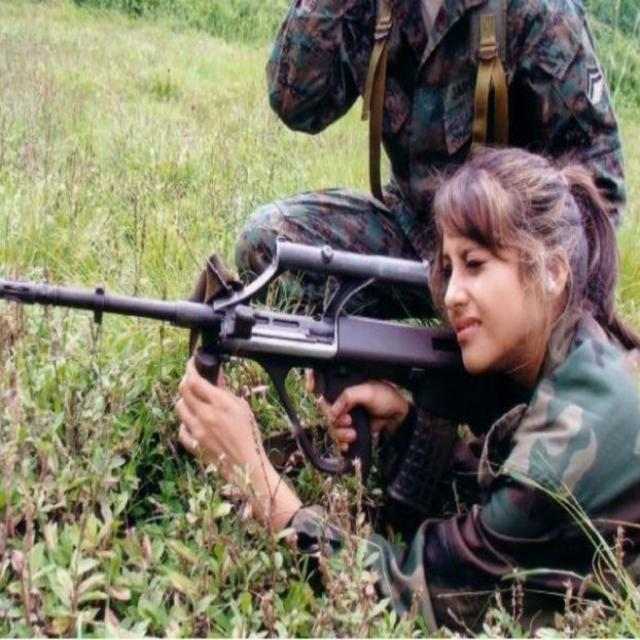heavy-weapon: (0, 235, 530, 558)
